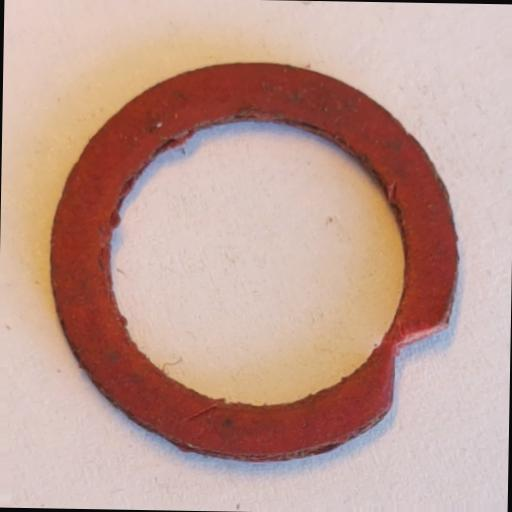defect: (386, 322, 448, 412)
